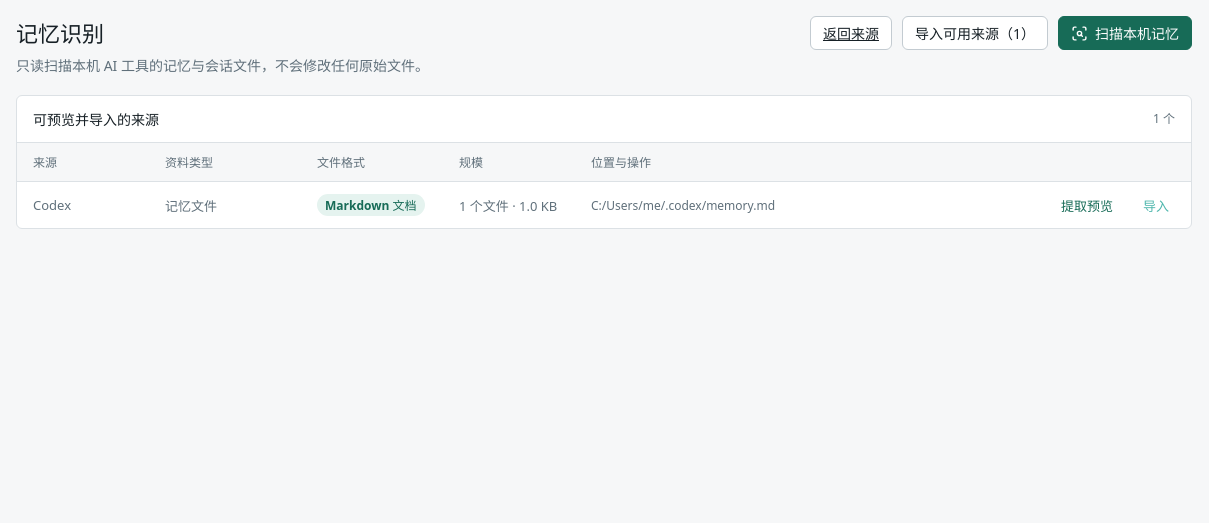
Test case: RecognitionView admission quality › explains a technical rule reclassification before import
Click the button "提取预览": x=1087, y=205 [1055, 194, 1119, 216]
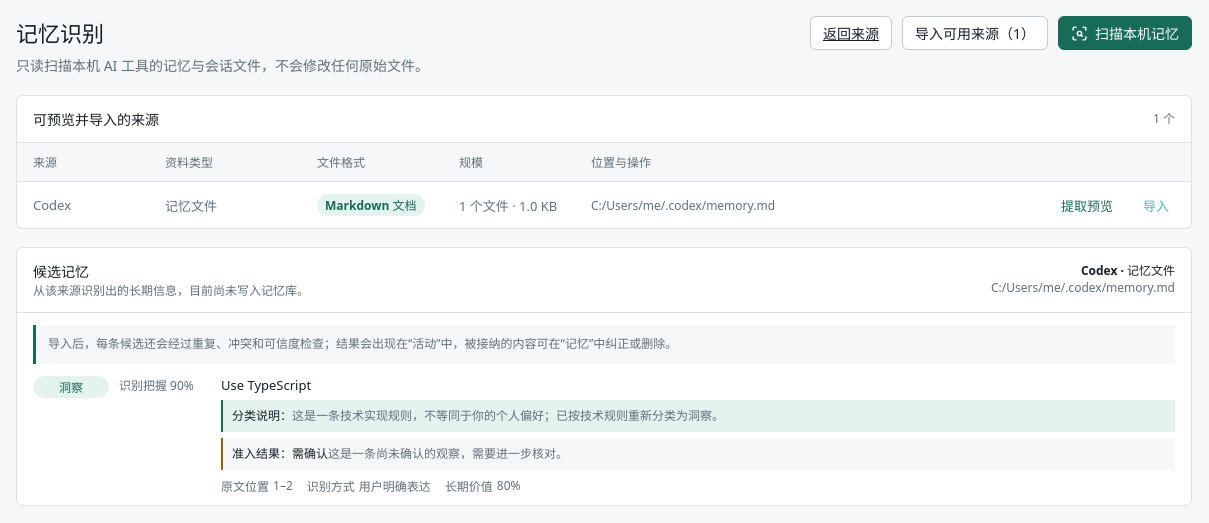
Expected: the text "洞察" is shown, [33, 376, 109, 398]
Expected: the text "分类说明" is shown, [232, 407, 292, 424]
Expected: the text "准入结果：需确认" is shown, [232, 445, 328, 462]
